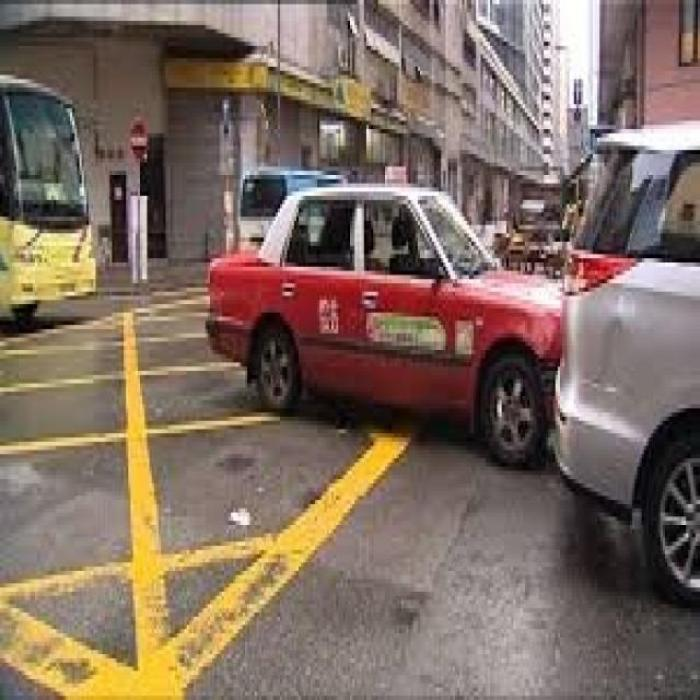Accident: (426, 198, 654, 457)
